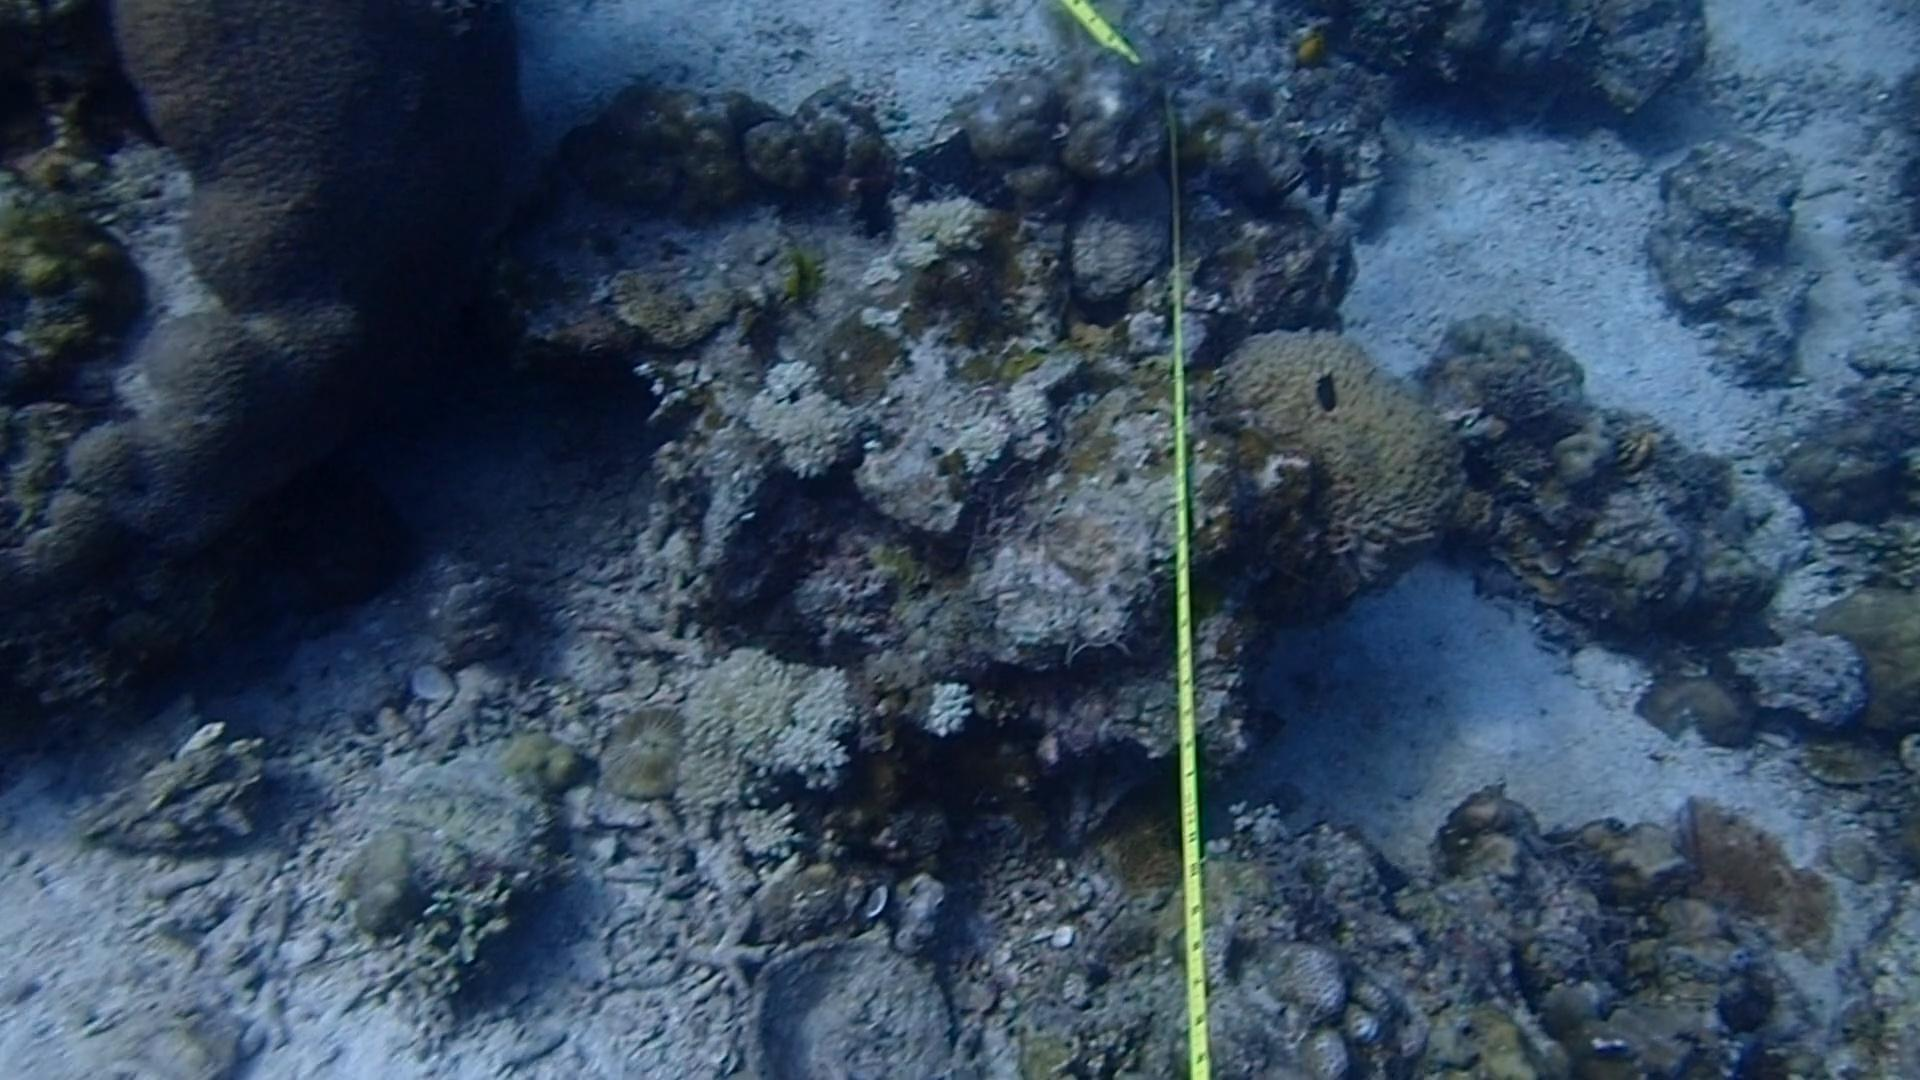Dark Fish: (1291, 356, 1360, 423), (1316, 229, 1362, 318), (1456, 438, 1516, 502), (1316, 154, 1353, 225), (1292, 135, 1329, 199)
